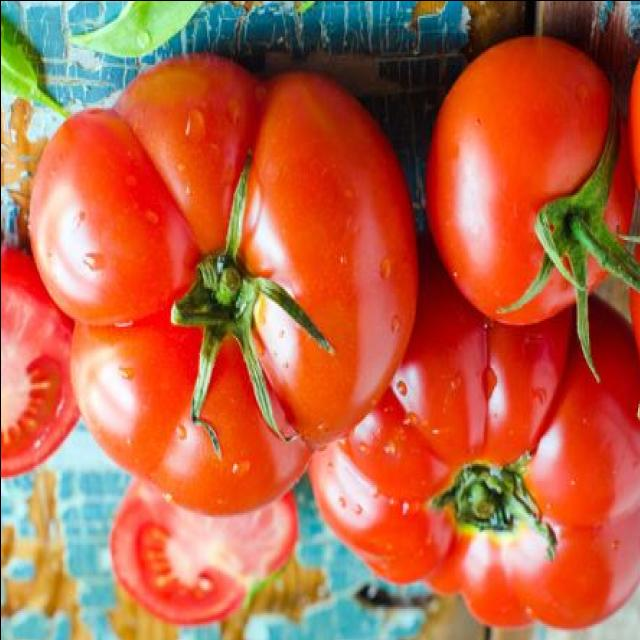Healthy: (63, 74, 390, 496), (330, 332, 640, 634), (414, 27, 629, 354)
